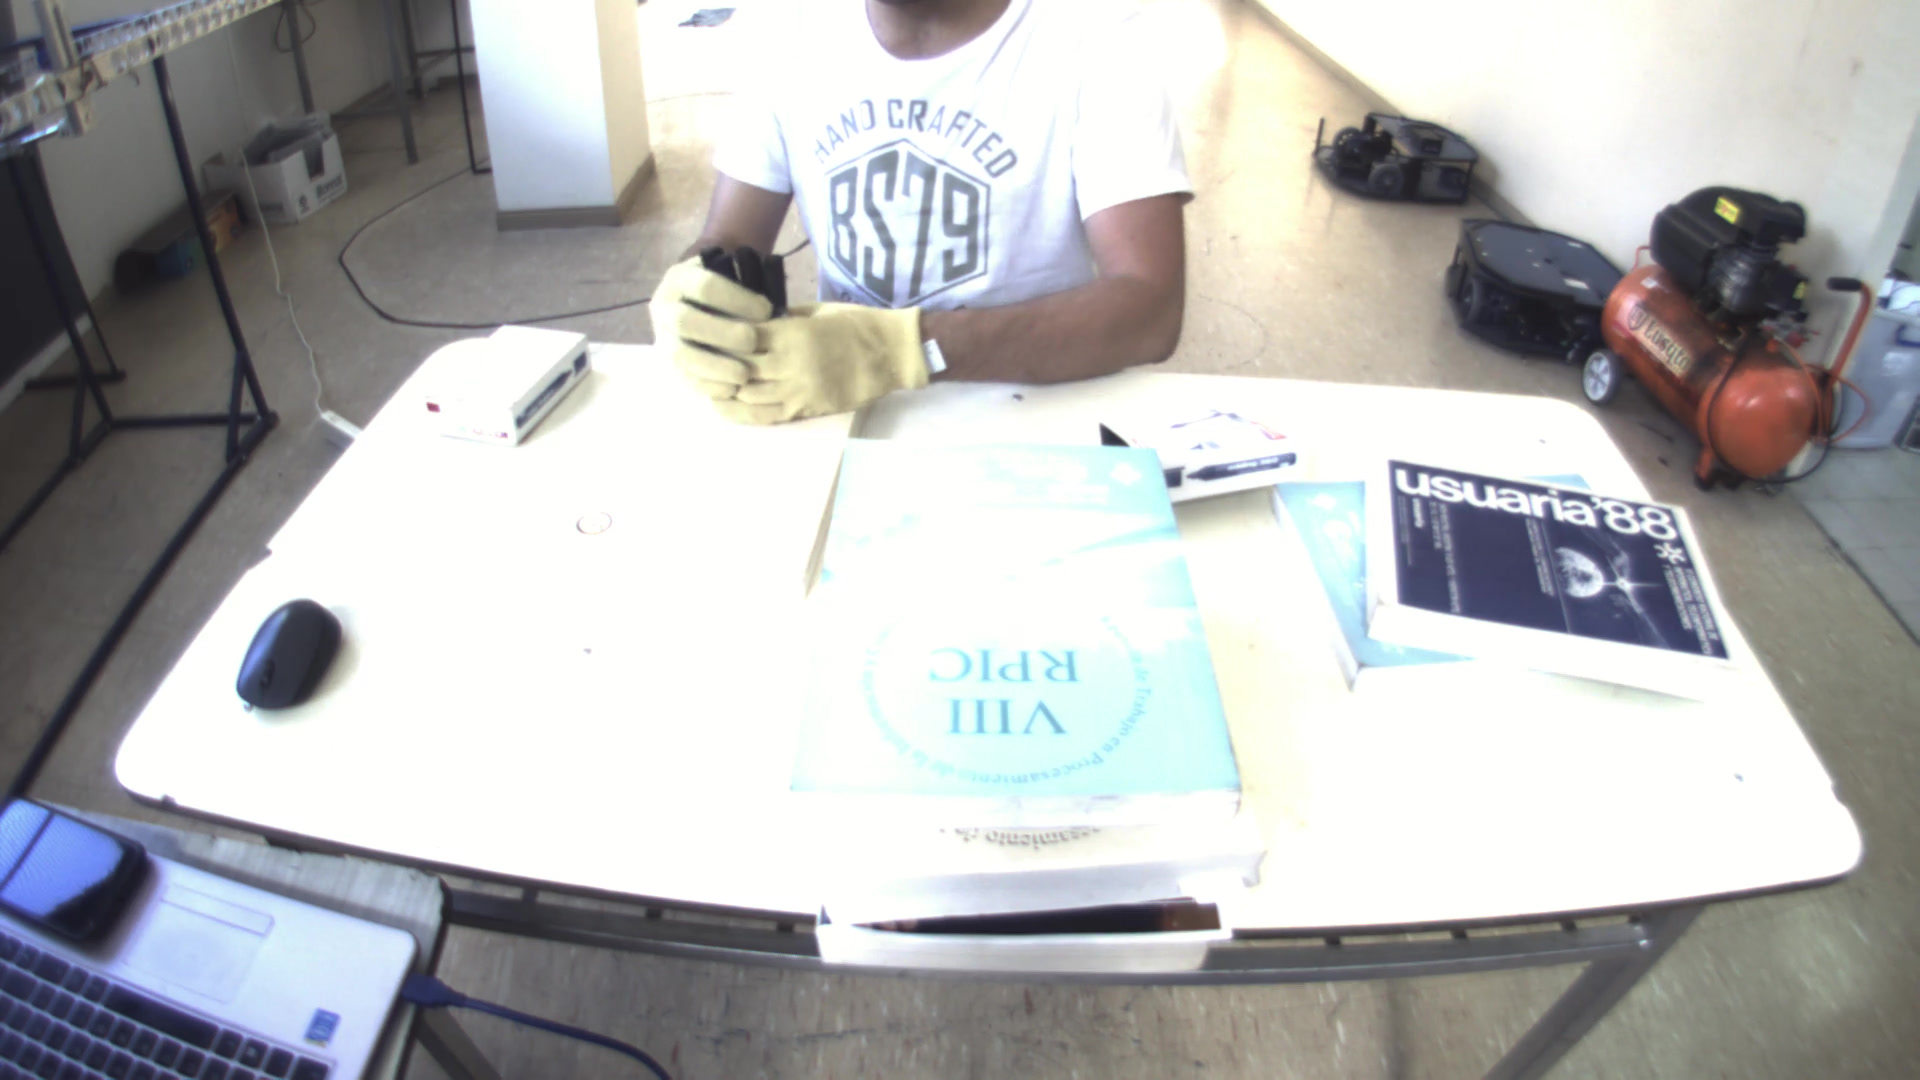hand: (724, 301, 951, 425), (646, 248, 767, 411)
